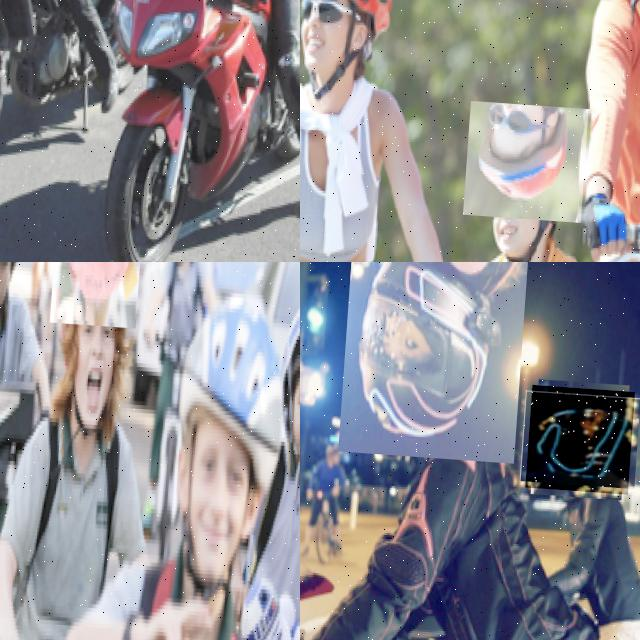helmet: (337, 262, 527, 463), (159, 286, 300, 530), (463, 100, 591, 222), (524, 384, 634, 494), (300, 0, 407, 65), (49, 262, 144, 328), (274, 288, 300, 381)
